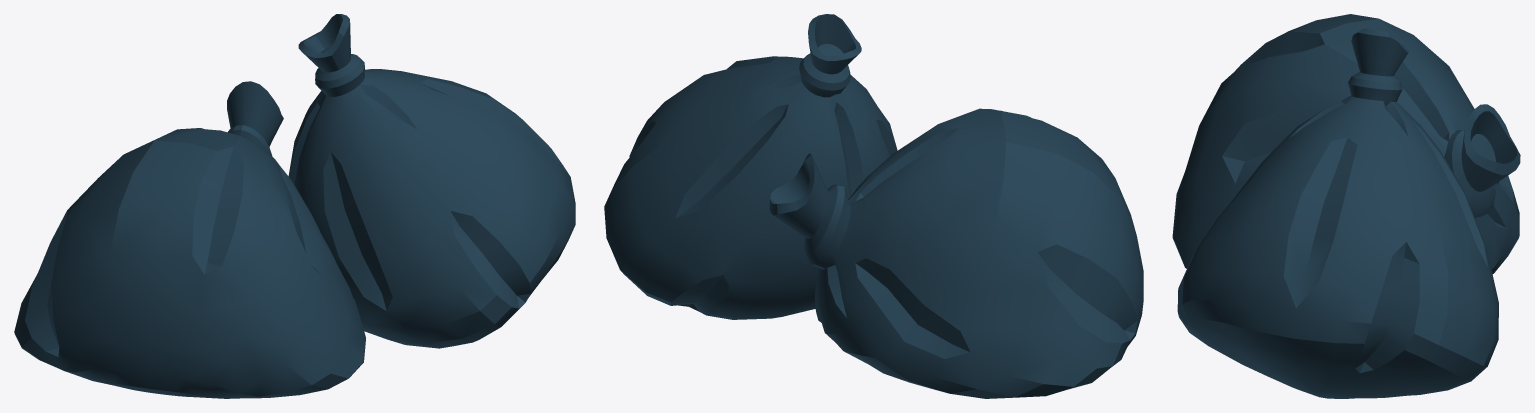
File: general.glb
3 views of the same model, side by side, from view 1: azimuth 30°, elevation 25°; view 2: azimuth 150°, elevation 25°; view 3: azimuth 270°, elevation 25° (orthographic). The views are drawn at different scales.
Parts seen in each view (by area): view 1: TrashBag_2; view 2: TrashBag_2; view 3: TrashBag_2.
Boxes of the visible parts, left/top/right/bottom form: TrashBag_2: left=14, top=14, right=575, bottom=398; TrashBag_2: left=604, top=14, right=1143, bottom=398; TrashBag_2: left=1172, top=14, right=1520, bottom=398.
Bounding box in the file's own units: 0.9061 × 0.53 × 0.5243.
